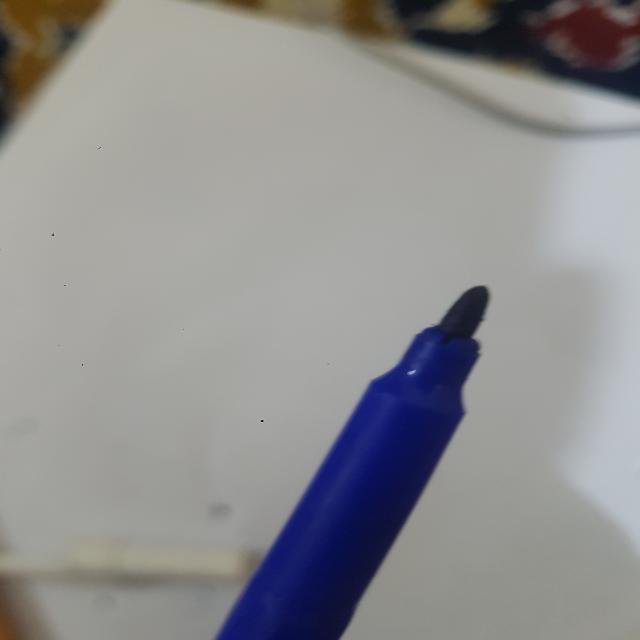general: (212, 284, 491, 638)
